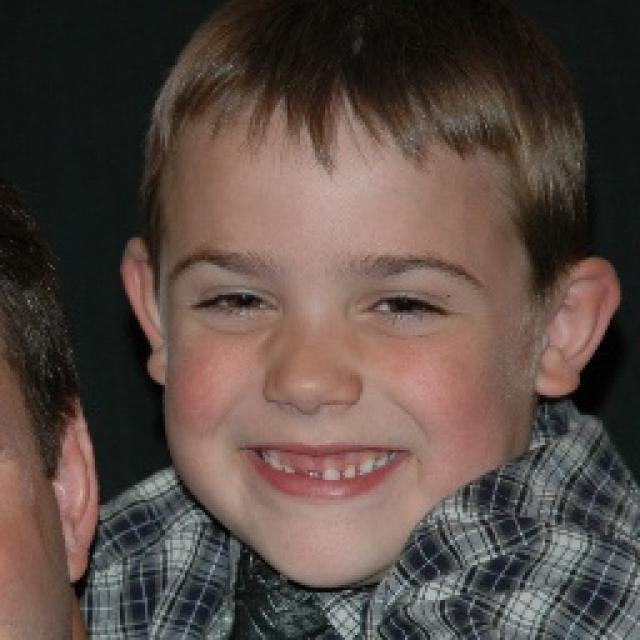earlobe: (537, 345, 591, 397), (64, 516, 96, 584), (146, 330, 166, 387)
eye: (366, 288, 449, 325), (200, 286, 277, 316)
nose: (263, 394, 363, 444)
wholeear: (535, 258, 619, 395), (52, 392, 98, 586), (119, 238, 165, 386)
